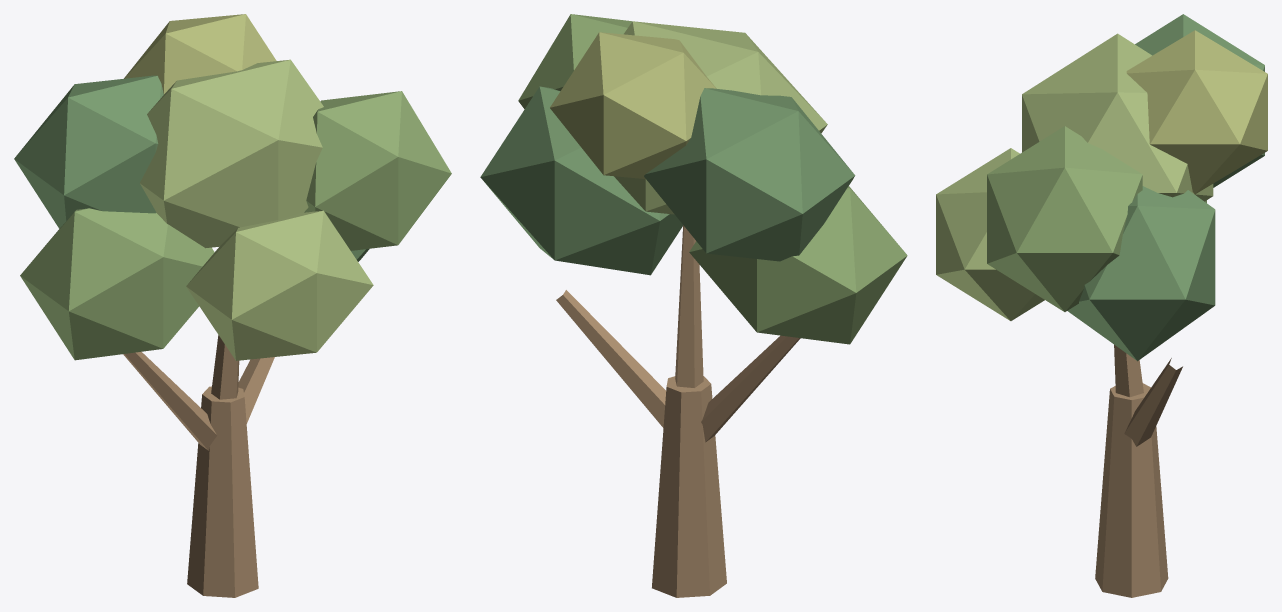
3 renders of one model, left to right at view 1: azimuth 30°, elevation 25°; view 2: azimuth 150°, elevation 25°; view 3: azimuth 270°, elevation 25°, orthographic. The views are drawn at different scales.
Visible parts, largest first — view 1: Body; view 2: Body; view 3: Body.
Boxes of the visible parts, x1,y1,x2,y2 form: Body: (14,14,451,597); Body: (480,14,907,597); Body: (936,14,1267,597).
Size of the model in its own units: 3.51 by 5.07 by 2.83.
